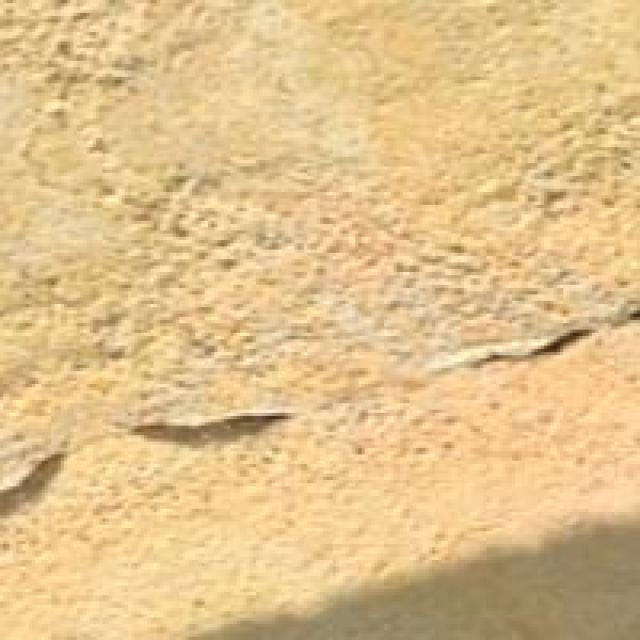crack: (0, 396, 290, 514), (436, 288, 640, 388)
